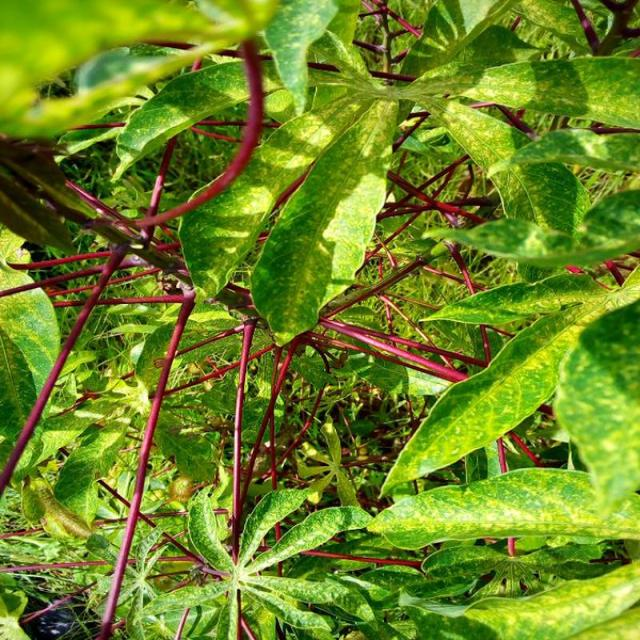cassava leaf: (378, 267, 638, 499), (366, 465, 638, 550)
